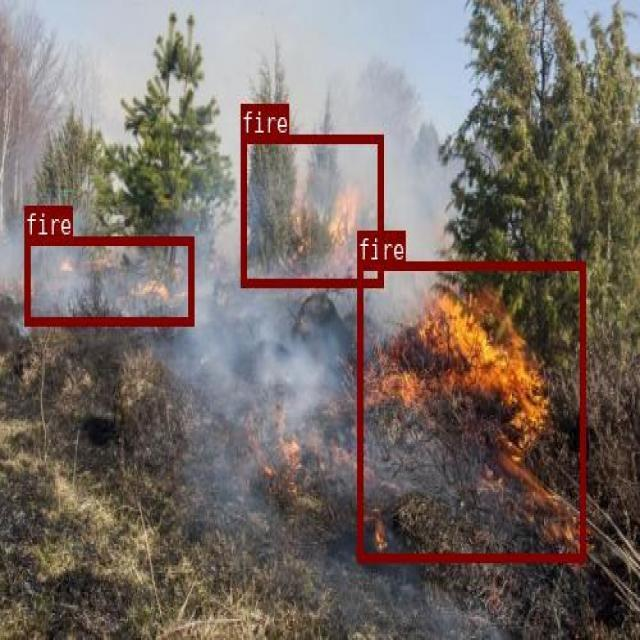fire: (357, 261, 584, 559), (240, 133, 382, 286), (23, 236, 193, 323)
